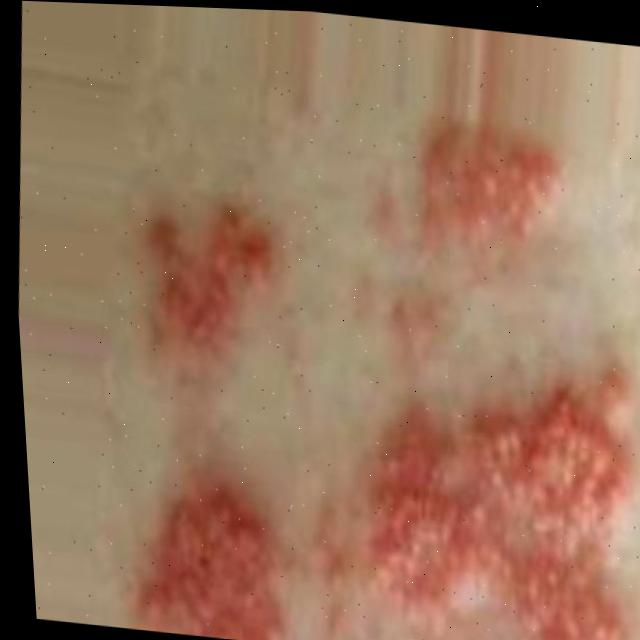Shingles: (93, 91, 640, 640)
